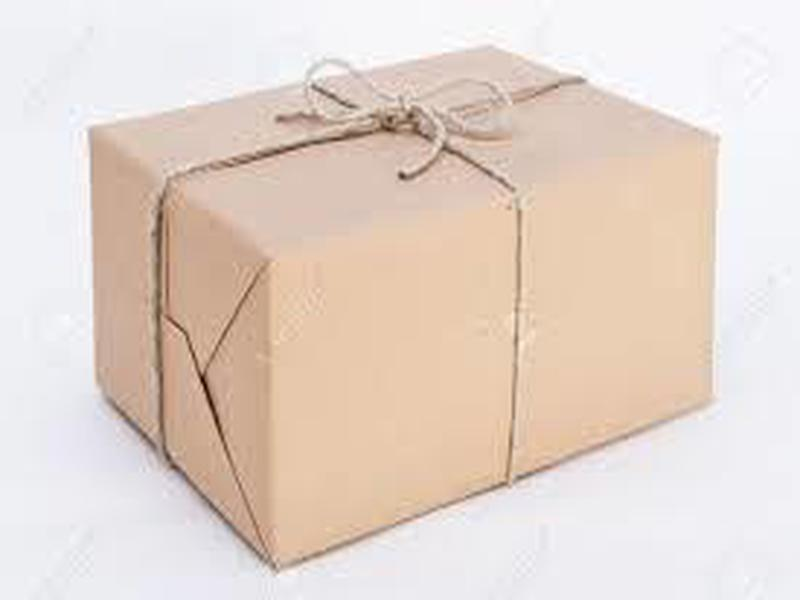package: (62, 21, 733, 579)
